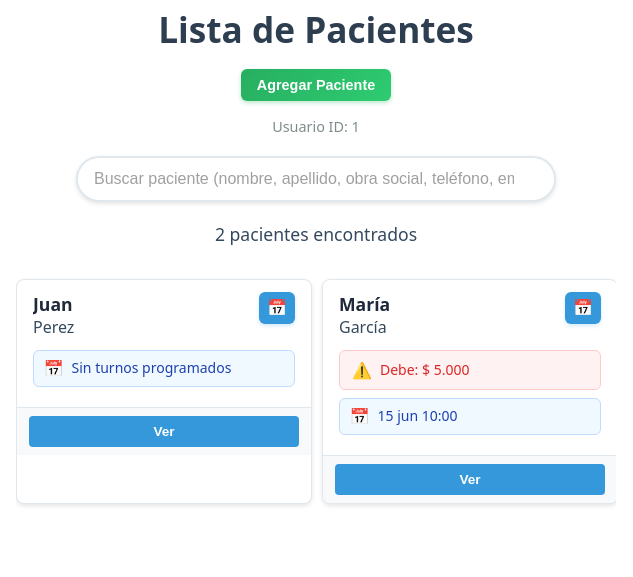
Test: Patients component › shows empty state when no patients match search
The image size is (633, 577).
Expected: the heading "Juan" is shown, [33,292,73,316]
Replace the text in the field with placeholder "Buscar paciente" with "XYZNOTFOUND" at (316, 179), box [76,156,556,202]
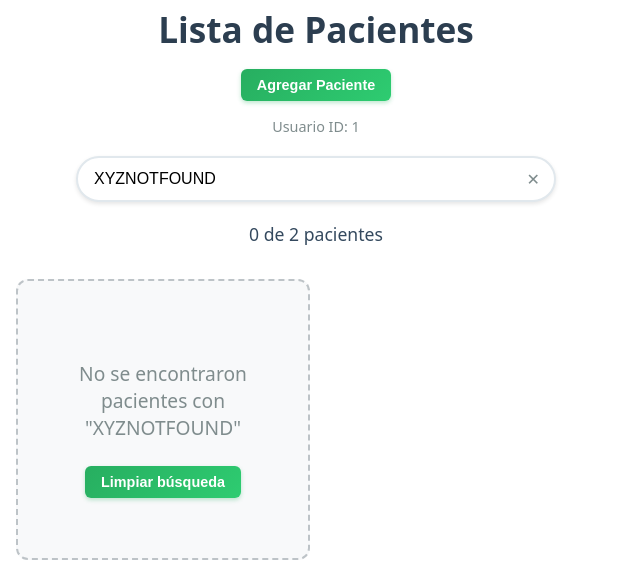
Now the text "No se encontraron pacientes con \"XYZNOTFOUND\"" is shown, box [79,360,247,441]
